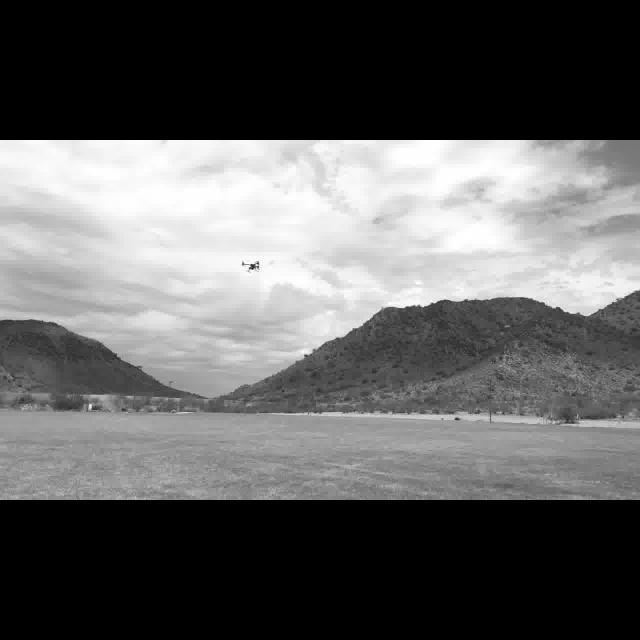Drons: (233, 256, 267, 280)
